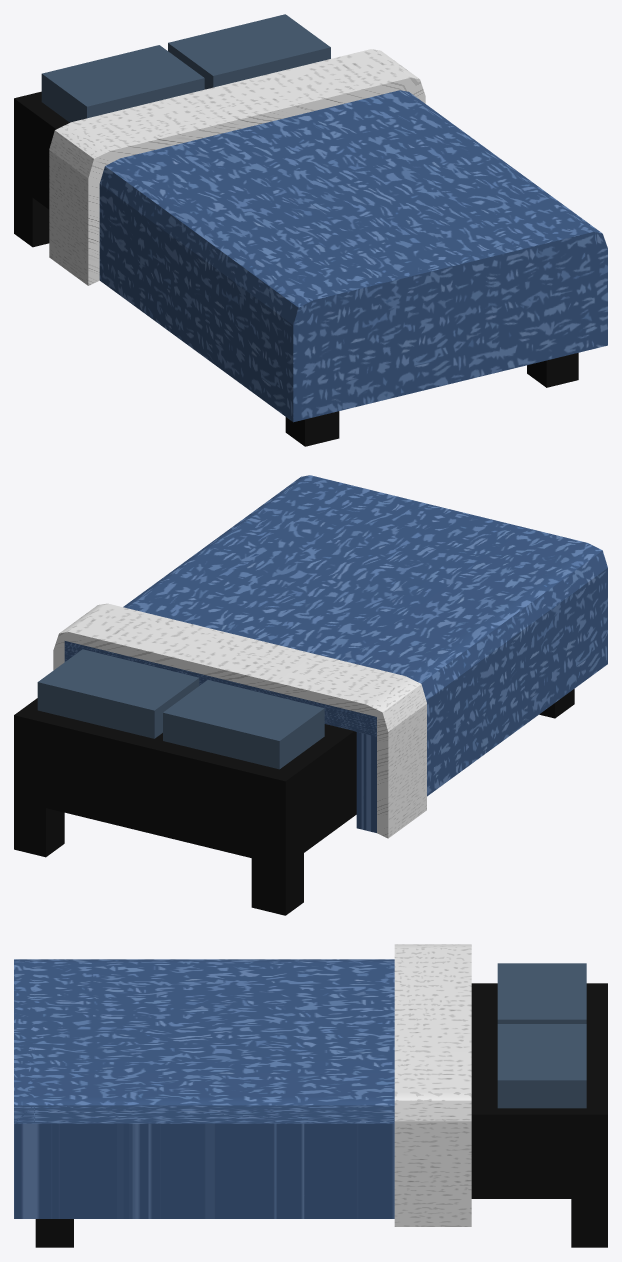
The model's file is Bed.dae.
The picture shows the model from 3 angles, top to bottom: view 1: azimuth 30°, elevation 25°; view 2: azimuth 150°, elevation 25°; view 3: azimuth 270°, elevation 25°; orthographic projection.
Parts seen in each view (by area): view 1: polySurface162, polySurface161, pCube20, pCube22, pCube23; view 2: polySurface162, pCube20, polySurface161, pCube22, pCube23; view 3: polySurface162, polySurface161, pCube20, pCube23, pCube22.
Boxes of the visible parts, left/top/right/bottom form: polySurface162: left=99, top=90, right=607, bottom=422; polySurface161: left=49, top=49, right=425, bottom=285; pCube20: left=14, top=91, right=578, bottom=446; pCube22: left=41, top=45, right=204, bottom=122; pCube23: left=168, top=14, right=330, bottom=89; polySurface162: left=64, top=475, right=607, bottom=832; pCube20: left=14, top=689, right=574, bottom=915; polySurface161: left=53, top=603, right=426, bottom=838; pCube22: left=163, top=680, right=324, bottom=769; pCube23: left=37, top=649, right=199, bottom=738; polySurface162: left=14, top=959, right=394, bottom=1218; polySurface161: left=394, top=944, right=471, bottom=1226; pCube20: left=35, top=983, right=607, bottom=1247; pCube23: left=497, top=1024, right=586, bottom=1108; pCube22: left=497, top=963, right=586, bottom=1023.
Bounding box in the file's own units: 167 × 78 × 259.
